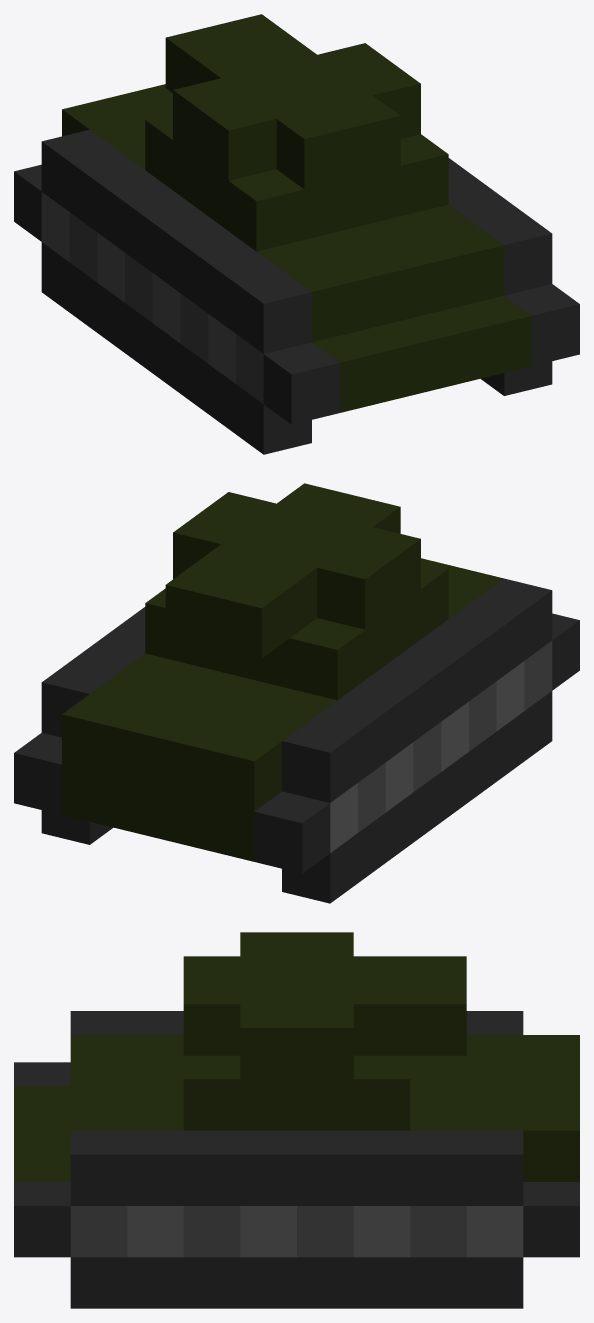
Rendered from Tank.obj.
3 views of the same model, one above another, from view 1: azimuth 30°, elevation 25°; view 2: azimuth 150°, elevation 25°; view 3: azimuth 270°, elevation 25° (orthographic).
Bounding box in the file's own units: 0.6 × 0.5 × 1.
1 material, 1 textured.
